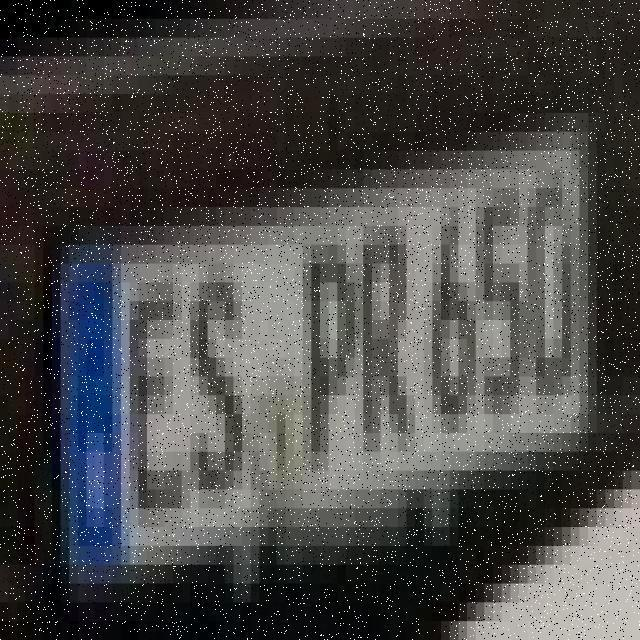LicensePlate: (44, 128, 603, 620)
